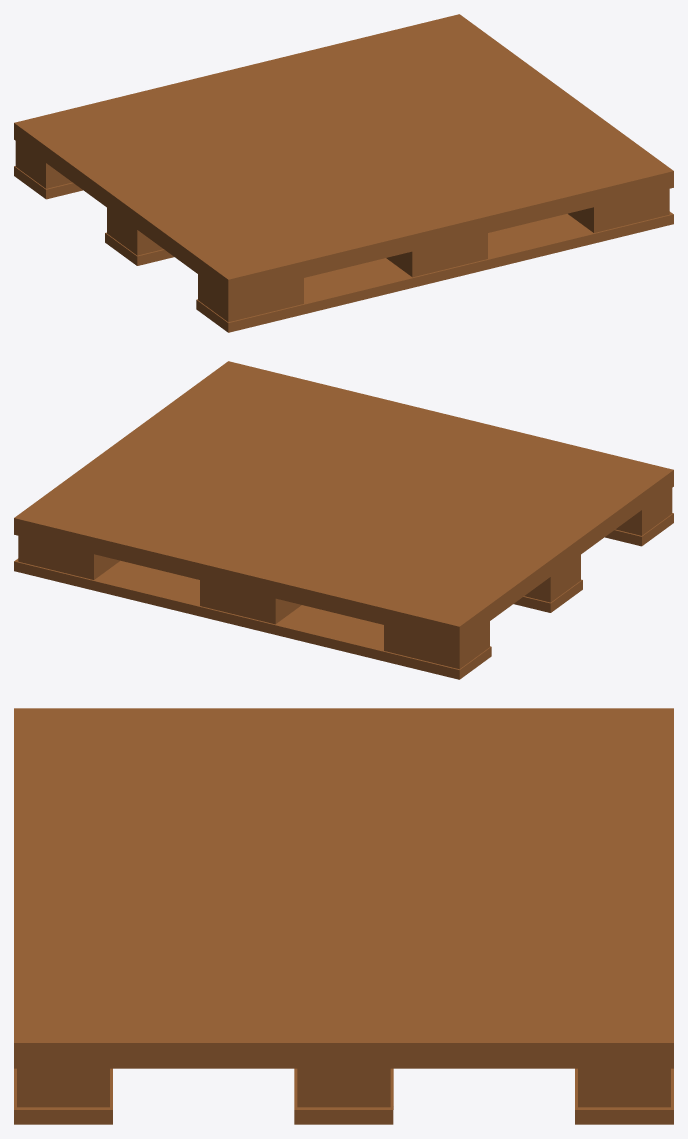
File: EuroPallet.fbx
3 views of the same model, one above another, from view 1: azimuth 30°, elevation 25°; view 2: azimuth 150°, elevation 25°; view 3: azimuth 270°, elevation 25° (orthographic). The views are drawn at different scales.
Visible parts, largest first — view 1: EuroPal; view 2: EuroPal; view 3: EuroPal.
Part boxes in pixels (bbox=[...]): EuroPal: bbox=[14, 14, 673, 332]; EuroPal: bbox=[14, 361, 673, 679]; EuroPal: bbox=[14, 708, 673, 1124].
Bounding box in the file's own units: 120 × 13.67 × 100.
